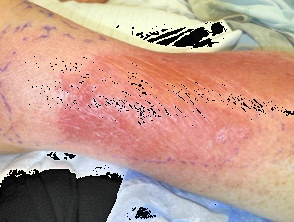SJS-TEN: (50, 44, 290, 182)
